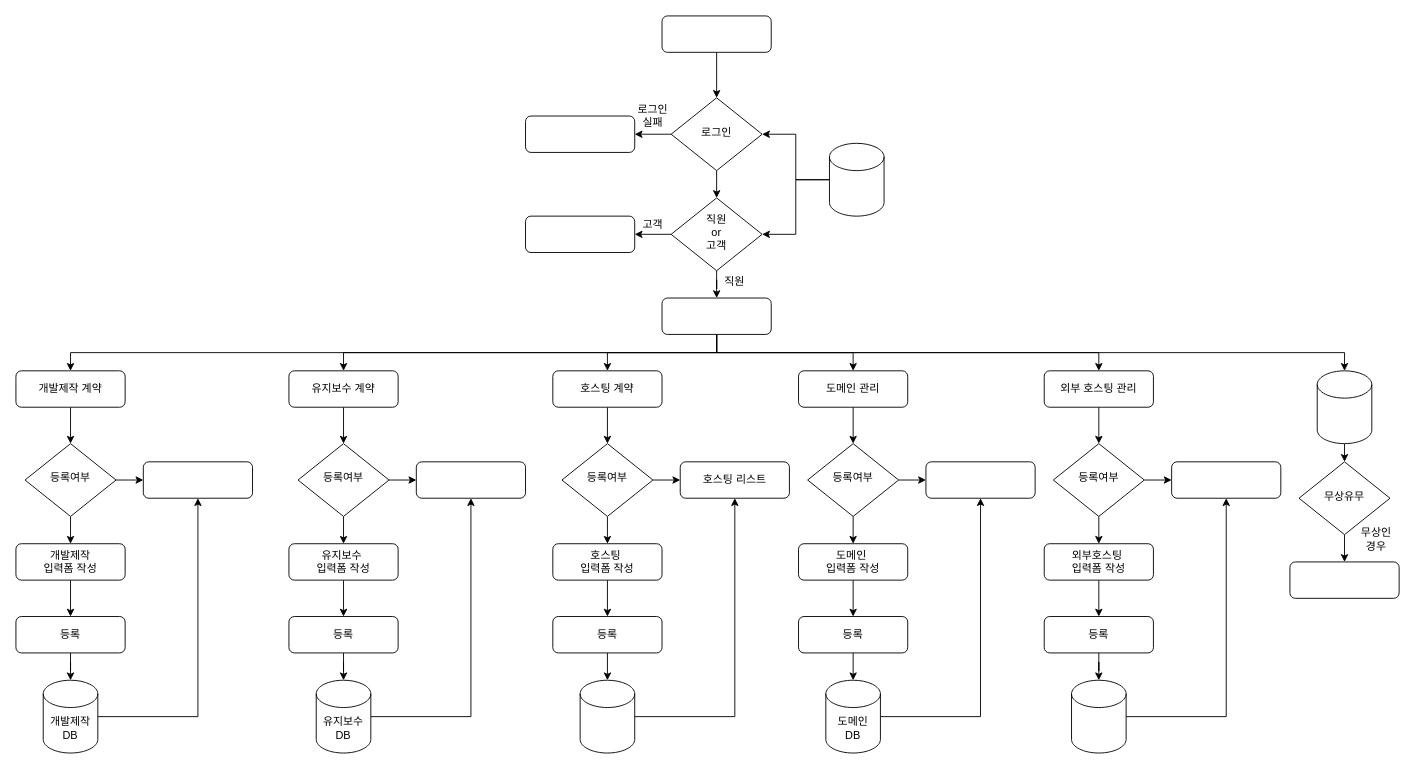
Some shapes in this 1415 by 769 pixel diagram are drawn without their labels. Here are the shapes that lost their labels. From the top down, the centre of each, then its label:
At (716,33): "사이트 접근 (start)".
At (580,133): "로그인 실패 알림".
At (856,179): "회원DB".
At (580,234): "고객관리 페이지".
At (716,315): "계약관리".
At (1344,407): "계약 관련 DB".
At (197,479): "개발제작 리스트".
At (470,479): "유지보수 리스트".
At (980,479): "도메인 리스트".
At (1226,479): "외부호스팅 리스트".
At (1344,579): "무상업체 목록".
At (607,716): "호스팅 DB".
At (1098,716): "외부호스팅 DB".
